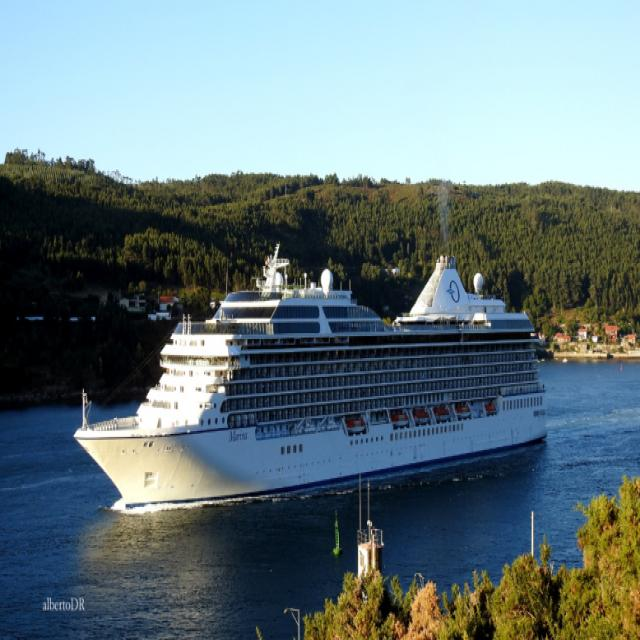cruises: (74, 239, 551, 514)
